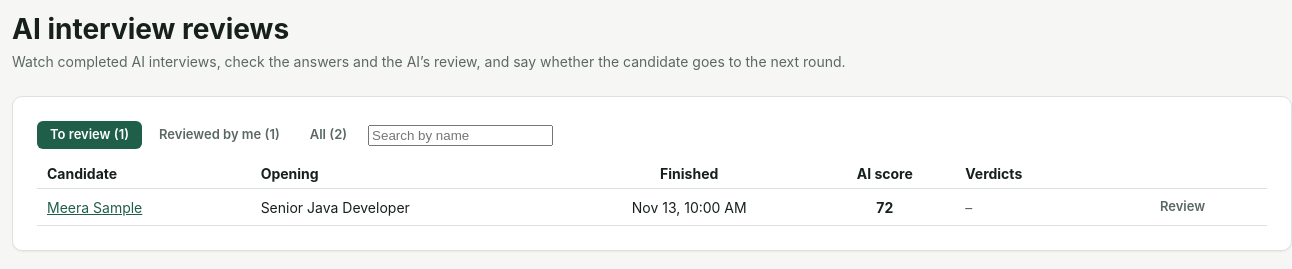
Test: AI interview reviews (AINT-21) › lists the interviews waiting for my verdict first
The image size is (1292, 269).
Expected: the text "Arun Sample" is not shown
Click the button "Reviewed by me (1)": click(219, 135) [146, 121, 293, 149]
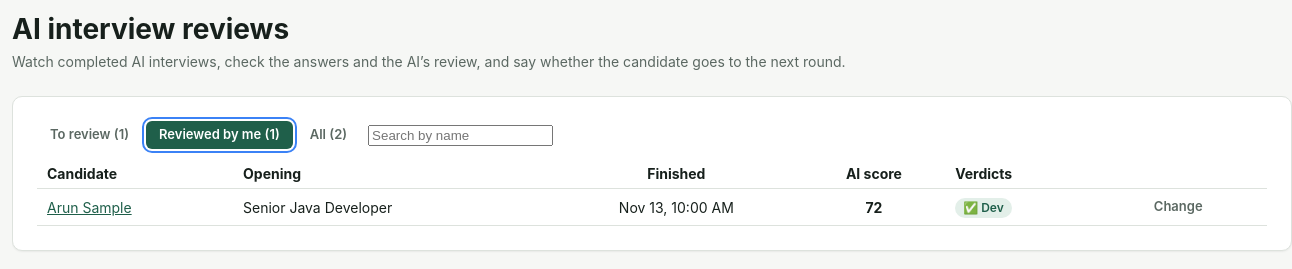
Now the link "Arun Sample" is shown, box [47, 198, 132, 216]
Now the text "✅ Dev" is shown, box [955, 198, 1012, 218]
